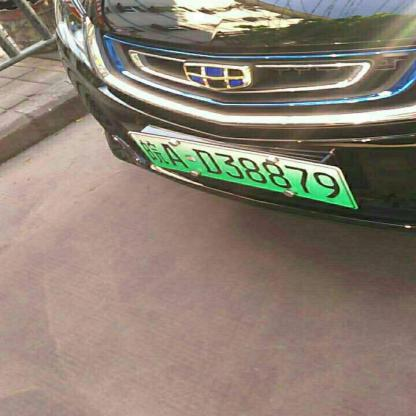lp: (130, 132, 353, 206)
